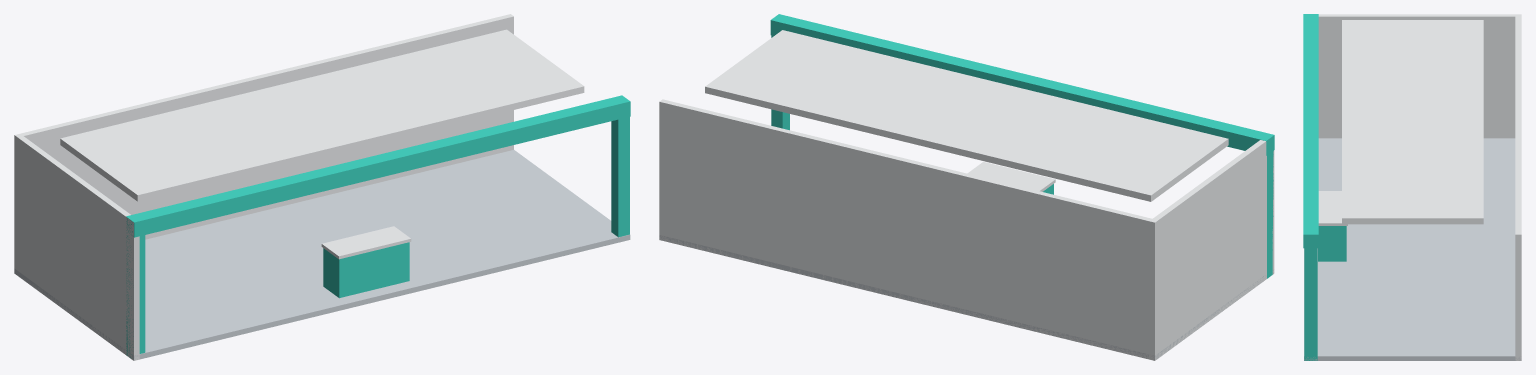
3 views of the same model, side by side, from view 1: azimuth 30°, elevation 25°; view 2: azimuth 150°, elevation 25°; view 3: azimuth 270°, elevation 25° (orthographic). The views are drawn at different scales.
Visible parts, largest first — view 1: Exhibition Booth Concept; view 2: Exhibition Booth Concept; view 3: Exhibition Booth Concept.
Boxes of the visible parts, x1,y1,x2,y2 form: Exhibition Booth Concept: (14,14,630,360); Exhibition Booth Concept: (659,14,1274,360); Exhibition Booth Concept: (1303,14,1521,360).
Bounding box in the file's own units: 12 × 3.34 × 5.02.
